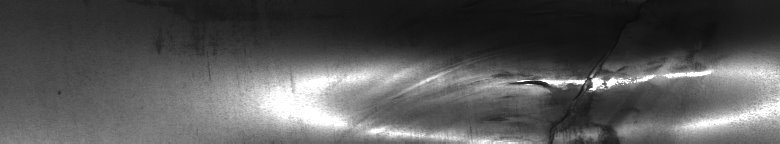ke: (369, 60, 717, 136)
